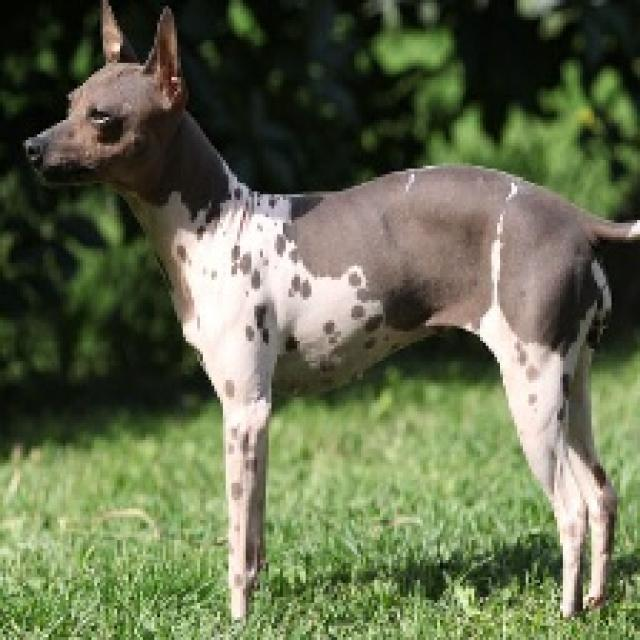cho khoe manh: (15, 2, 640, 606)
